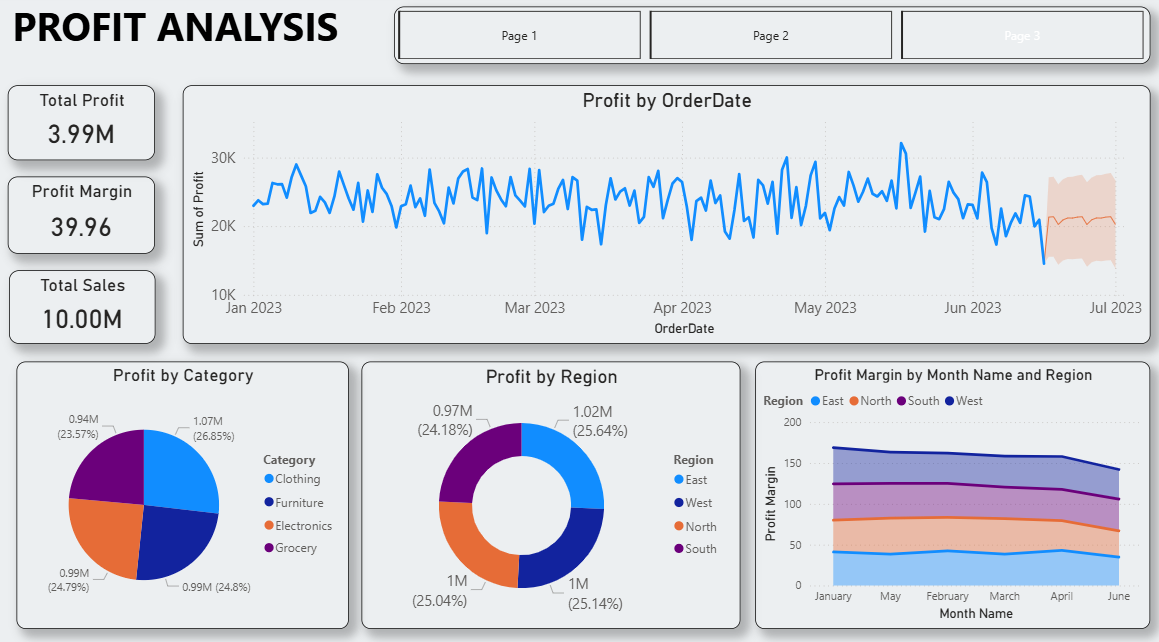

The dashboard page shown, as its layout file describes it:
{"tool":"powerbi","page":{"name":"Page 3","canvas":[1280,720],"ordinal":2},"visuals":[{"type":"textbox","box":[9.6,0,388.3,76.8],"z":0},{"type":"card","title":"Total Profit","fields":{"Values":["Sum(Cleaned Data.Profit)"]},"box":[9.6,100.2,161.9,82.3],"z":1000},{"type":"pieChart","title":"Profit by Category","fields":{"Category":["Cleaned Data.Category"],"Y":["Sum(Cleaned Data.Profit)"]},"box":[19.2,403.4,365,293.7],"z":2000},{"type":"donutChart","title":"Profit by Region","fields":{"Category":["Cleaned Data.Region"],"Y":["Sum(Cleaned Data.Profit)"]},"box":[397.9,403.4,415.8,293.7],"z":3000},{"type":"stackedAreaChart","fields":{"Category":["Cleaned Data.Month Name"],"Y":["Cleaned Data.Profit Margin"],"Series":["Cleaned Data.Region"]},"box":[830.2,403.4,433.6,293.7],"z":4000},{"type":"lineChart","title":"Profit by OrderDate","fields":{"Y":["Sum(Cleaned Data.Profit)"],"Category":["Cleaned Data.OrderDate"]},"box":[201.7,100.2,1062.1,284],"z":5000},{"type":"card","title":"Profit Margin","fields":{"Values":["Cleaned Data.Profit Margin"]},"box":[9.6,200.3,161.9,85.1],"z":6000},{"type":"card","title":"Total Sales","fields":{"Values":["Sum(Cleaned Data.Sales)"]},"box":[11,303.3,160.5,81],"z":7000},{"type":"pageNavigator","box":[433.6,13.7,830.2,63.1],"z":8000}]}

Visuals, with their boxes in screenshot pixels (x1, y1, x2, y2), scaled from the page's 1280x720 canvas onto the 1159x642 screenshot:
textbox: BBox(9, 0, 360, 68)
"Total Profit" card: BBox(9, 89, 155, 163)
"Profit by Category" pieChart: BBox(17, 360, 348, 622)
"Profit by Region" donutChart: BBox(360, 360, 737, 622)
stackedAreaChart - Cleaned Data.Month Name x Cleaned Data.Profit Margin: BBox(752, 360, 1144, 622)
"Profit by OrderDate" lineChart: BBox(183, 89, 1144, 343)
"Profit Margin" card: BBox(9, 179, 155, 254)
"Total Sales" card: BBox(10, 270, 155, 343)
pageNavigator: BBox(393, 12, 1144, 68)
